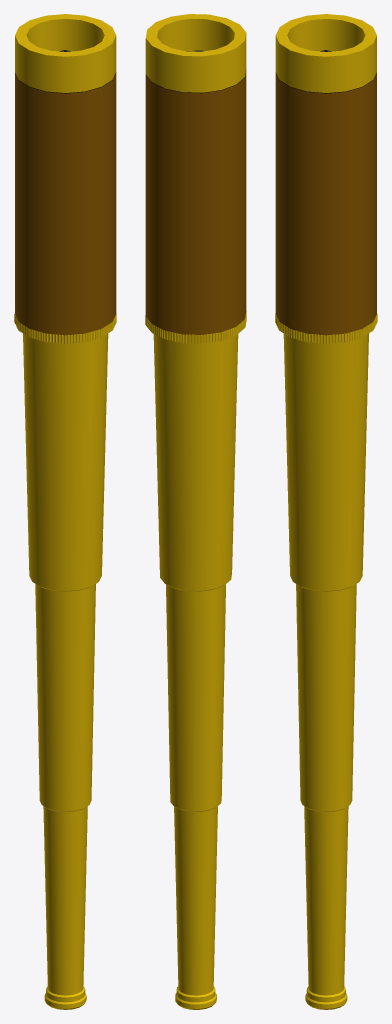
The model's file is Telescope_V1.fbx.
3 renders of one model, left to right at view 1: azimuth 90°, elevation 25°; view 2: azimuth 210°, elevation 25°; view 3: azimuth 270°, elevation 25°, orthographic.
Visible parts, largest first — view 1: Telescope_Visual, Telescope_Visual.001; view 2: Telescope_Visual, Telescope_Visual.001; view 3: Telescope_Visual, Telescope_Visual.001.
Boxes of the visible parts, bbox=[...] form: Telescope_Visual: bbox=[15, 14, 116, 1009]; Telescope_Visual.001: bbox=[14, 313, 116, 343]; Telescope_Visual: bbox=[145, 14, 246, 1009]; Telescope_Visual.001: bbox=[145, 311, 246, 343]; Telescope_Visual: bbox=[275, 14, 376, 1009]; Telescope_Visual.001: bbox=[275, 313, 377, 343].
Bounding box in the file's own units: 38.67 × 404 × 38.65.
